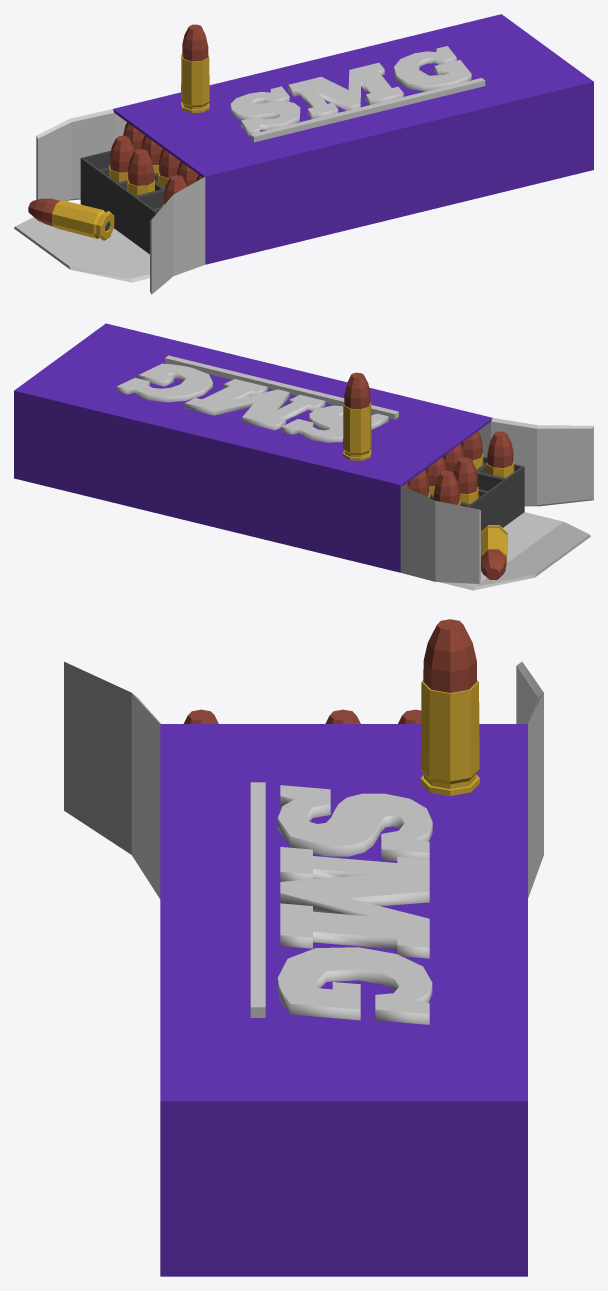
The model's file is Ammo_Pack_SMG.glb.
3 views of the same model, one above another, from view 1: azimuth 30°, elevation 25°; view 2: azimuth 150°, elevation 25°; view 3: azimuth 270°, elevation 25° (orthographic). The views are drawn at different scales.
Parts seen in each view (by area): view 1: Ammo_Pack_SMG; view 2: Ammo_Pack_SMG; view 3: Ammo_Pack_SMG.
Part boxes in pixels (bbox=[...]): Ammo_Pack_SMG: bbox=[14, 14, 593, 294]; Ammo_Pack_SMG: bbox=[14, 323, 593, 590]; Ammo_Pack_SMG: bbox=[64, 619, 543, 1276].
Bounding box in the file's own units: 0.1951 × 0.0622 × 0.0806.
1 material, 1 textured.
